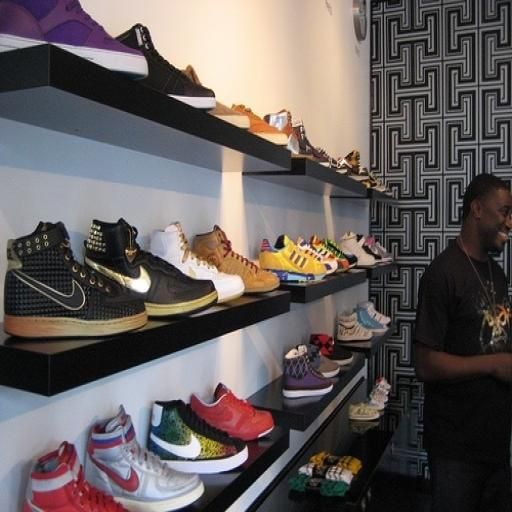shoe: (3, 221, 148, 337), (85, 218, 218, 317), (85, 405, 204, 512), (0, 0, 148, 79), (117, 23, 216, 109), (148, 221, 245, 303), (23, 441, 128, 512), (148, 400, 248, 474), (194, 225, 280, 294), (190, 382, 274, 441), (181, 64, 250, 130), (259, 234, 327, 282), (282, 348, 332, 399), (231, 104, 288, 146), (292, 118, 331, 166), (263, 109, 300, 156), (296, 236, 338, 274), (295, 344, 340, 378), (309, 235, 350, 272), (310, 333, 354, 366), (340, 230, 377, 268), (298, 463, 353, 486), (310, 451, 362, 475), (322, 238, 358, 269), (337, 310, 373, 341), (338, 148, 369, 182), (358, 300, 392, 326), (353, 307, 388, 332), (356, 234, 382, 264), (366, 236, 393, 264), (348, 403, 380, 420), (370, 387, 389, 404), (366, 396, 386, 411), (375, 377, 391, 394)
